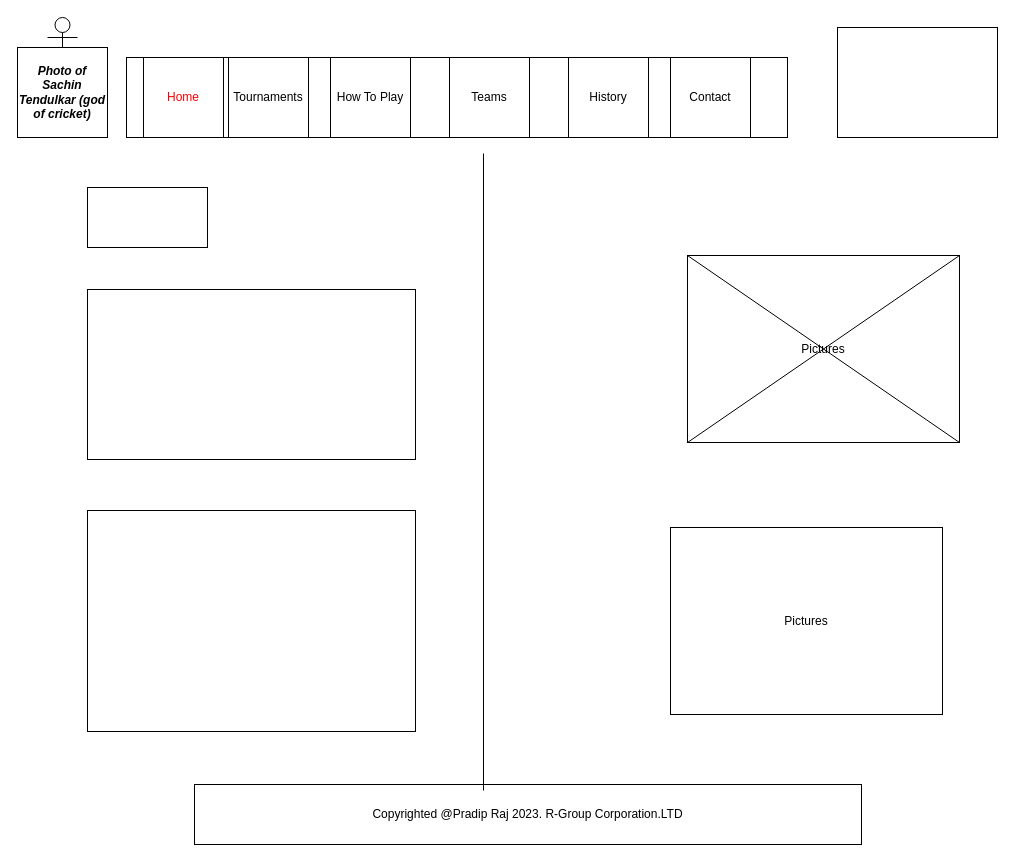
This 1015x862 diagram has some shape labels left out. Here are the shapes that lost their labels. From the top down, the box of each, then its label:
(836, 26, 998, 138): Cricket Logo
(86, 186, 208, 248): What is cricket?
(86, 288, 416, 460): Description....
(86, 510, 416, 732): Description about the biggest bodies of cricket: ICC: ACC:
